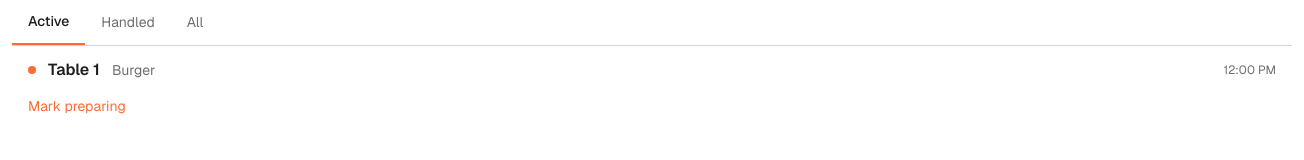
Test: OrderFeed › handleAdvance › CONCURRENT_UPDATE: keeps optimistic state (trusts Realtime to reconcile); shows error
Click the button "Mark preparing". click: (77, 110)
box: [12, 96, 142, 124]
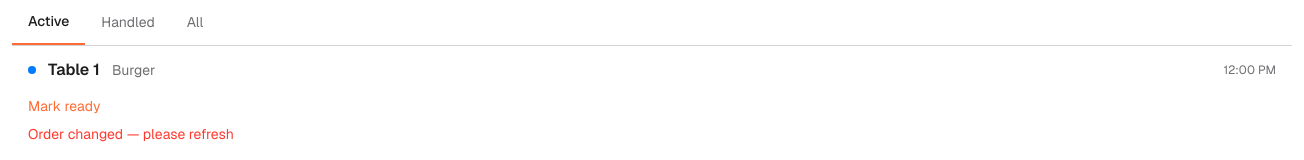
Expected: the message reads "Order changed — please refresh", [28, 125, 234, 143]
